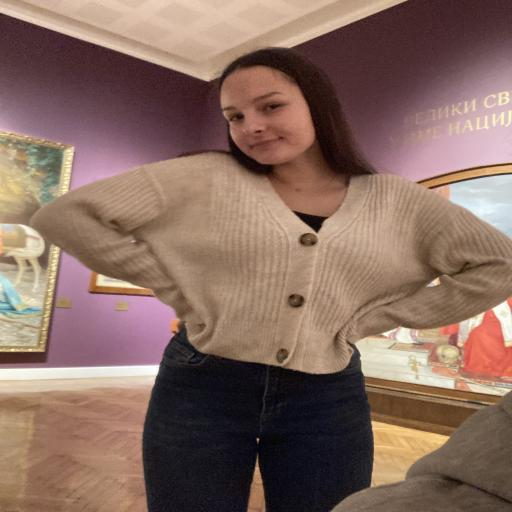marija: (219, 58, 317, 166)
